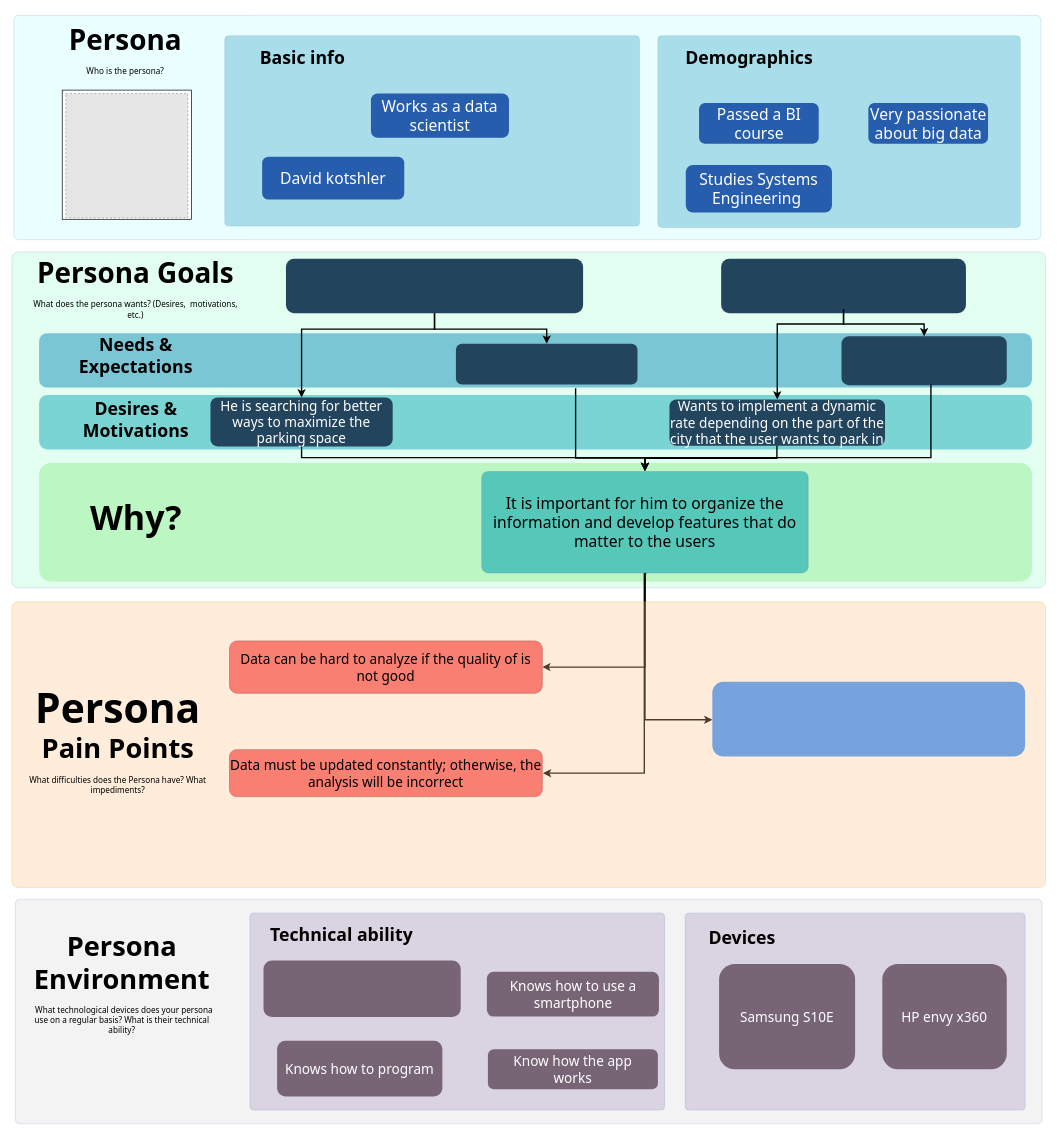
Image size: 1057x1136. Some labels were removed from this diagram. Grey dashed boxes stand in for pictures. Here are the shapes that lost their labels. From the top down, the centre of each, then its label:
point (434, 285): Wants to analyze the data coming from parking lots
point (843, 285): Wants to analyze the data coming from drivers who search for parking
point (546, 363): Wants to know how the flow of cars is throughout the day
point (923, 360): He wants to know where the most drivers are in the city
point (868, 718): He wants organized and valid data so he can analyze it correctly
point (361, 988): Knows about BI
